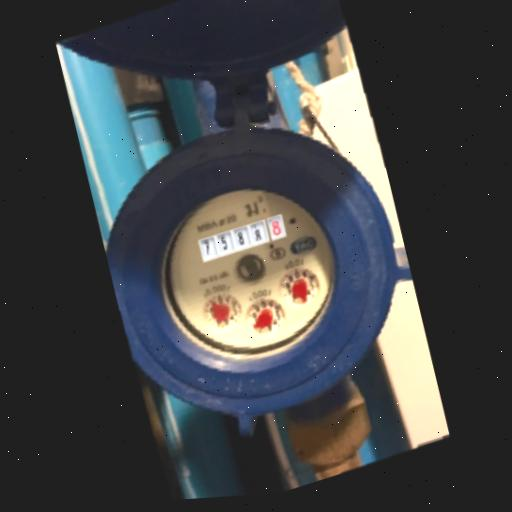5: (217, 232, 232, 253)
7: (200, 238, 217, 259)
8: (235, 228, 251, 249), (251, 222, 267, 243), (268, 217, 284, 238)
border_water_meter_number: (197, 213, 287, 262)
